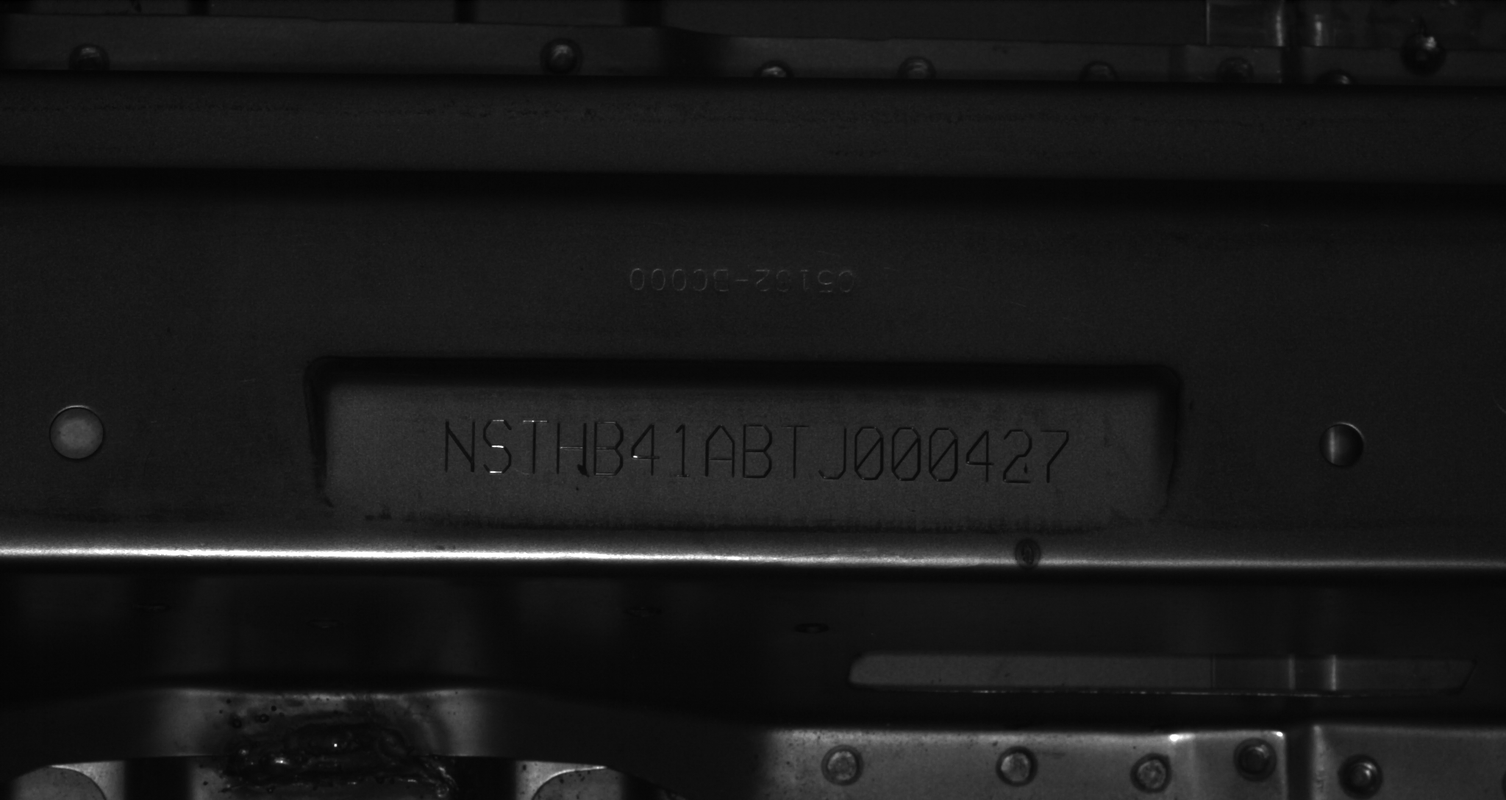bl7m_vin_plate: (320, 387, 1168, 529)
